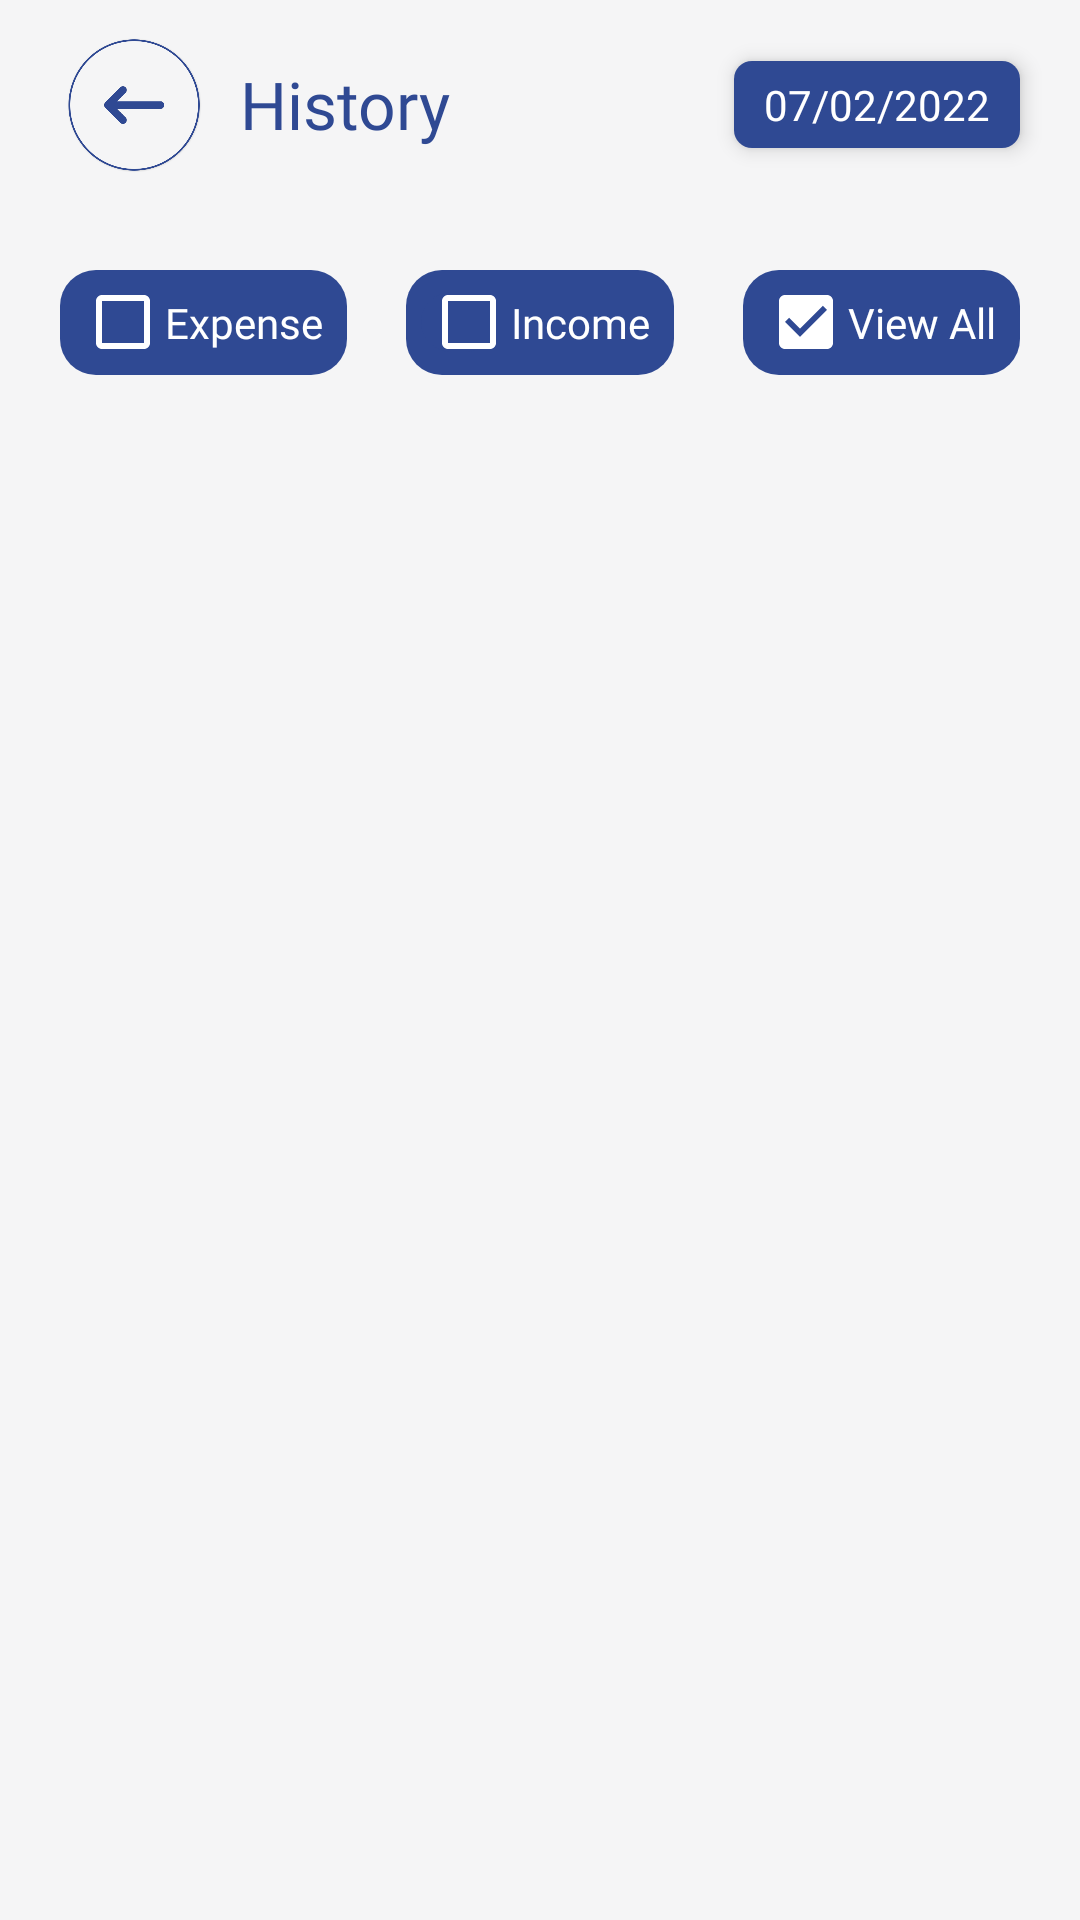

Named icons in this screenshot (1080*1920) and their bounding boxes, [x1=x1, y1=y1, x2=x2, y2=y2]:
back: [x1=68, y1=39, x2=200, y2=171]
